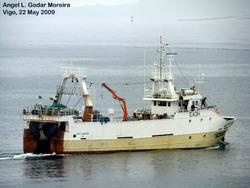otherboat: (13, 34, 236, 157)
